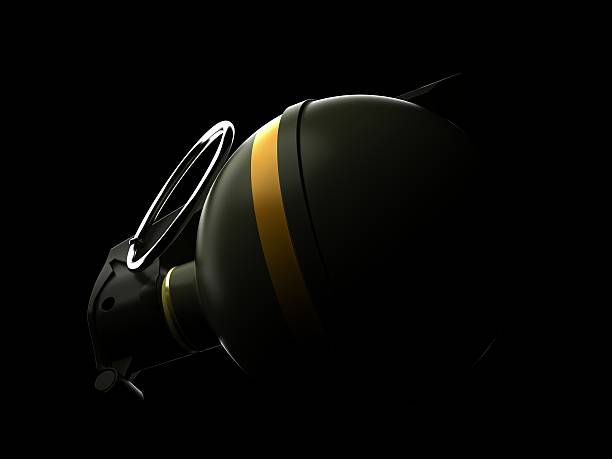e1: (70, 89, 459, 375)
